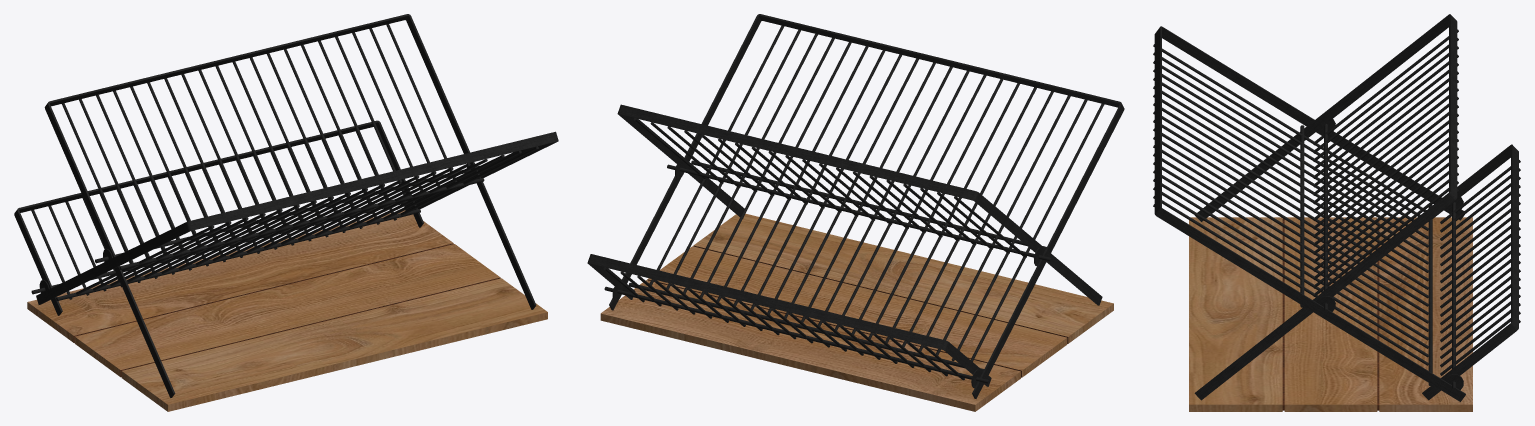
Rendered from 111 - abchekan tasho choobi.glb.
3 views of the same model, side by side, from view 1: azimuth 30°, elevation 25°; view 2: azimuth 150°, elevation 25°; view 3: azimuth 270°, elevation 25° (orthographic). The views are drawn at different scales.
Parts seen in each view (by area): view 1: Group#156 [30336], Component#16 [2872] (×20), Component#17 [2727] (×17), Group#138 [2787], Group#144 [2932], Group#143 [2860], Group#146 [2789], Group#141 [2788], Group#148 [2438]; view 2: Group#156 [30336], Component#17 [2727] (×20), Group#138 [2787], Group#144 [2932], Group#143 [2860], Group#148 [2438] (×2), Group#146 [2789], Group#141 [2788]; view 3: Group#156 [30336], Component#17 [2727] (×19), Component#16 [2872] (×19), Group#138 [2787], Group#144 [2932], Group#143 [2860], Group#148 [2438] (×2), Group#141 [2788], Group#146 [2789].
Part boxes in pixels (bbox=[...]): Group#156 [30336]: bbox=[27, 210, 547, 411]; Component#16 [2872] (×20): bbox=[62, 24, 458, 267]; Component#17 [2727] (×17): bbox=[127, 146, 538, 282]; Group#138 [2787]: bbox=[36, 131, 558, 304]; Group#144 [2932]: bbox=[44, 14, 536, 397]; Group#143 [2860]: bbox=[14, 120, 423, 315]; Group#146 [2789]: bbox=[56, 209, 420, 300]; Group#141 [2788]: bbox=[119, 177, 484, 269]; Group#148 [2438]: bbox=[95, 165, 479, 263]; Group#156 [30336]: bbox=[600, 213, 1113, 411]; Component#17 [2727] (×20): bbox=[649, 25, 1104, 361]; Group#138 [2787]: bbox=[609, 14, 1124, 398]; Group#144 [2932]: bbox=[617, 104, 1102, 305]; Group#143 [2860]: bbox=[587, 254, 991, 386]; Group#148 [2438] (×2): bbox=[604, 164, 1052, 383]; Group#146 [2789]: bbox=[628, 282, 984, 370]; Group#141 [2788]: bbox=[691, 160, 1046, 248]; Group#156 [30336]: bbox=[1189, 217, 1472, 411]; Component#17 [2727] (×19): bbox=[1153, 44, 1428, 365]; Component#16 [2872] (×19): bbox=[1313, 29, 1458, 296]; Group#138 [2787]: bbox=[1154, 26, 1465, 401]; Group#144 [2932]: bbox=[1194, 14, 1457, 400]; Group#143 [2860]: bbox=[1422, 144, 1518, 400]; Group#148 [2438] (×2): bbox=[1324, 124, 1455, 390]; Group#141 [2788]: bbox=[1300, 125, 1304, 307]; Group#146 [2789]: bbox=[1428, 204, 1432, 385].
Bounding box in the file's own units: 0.455 × 0.2386 × 0.369.
Materials: 4 (4 with a texture image).
